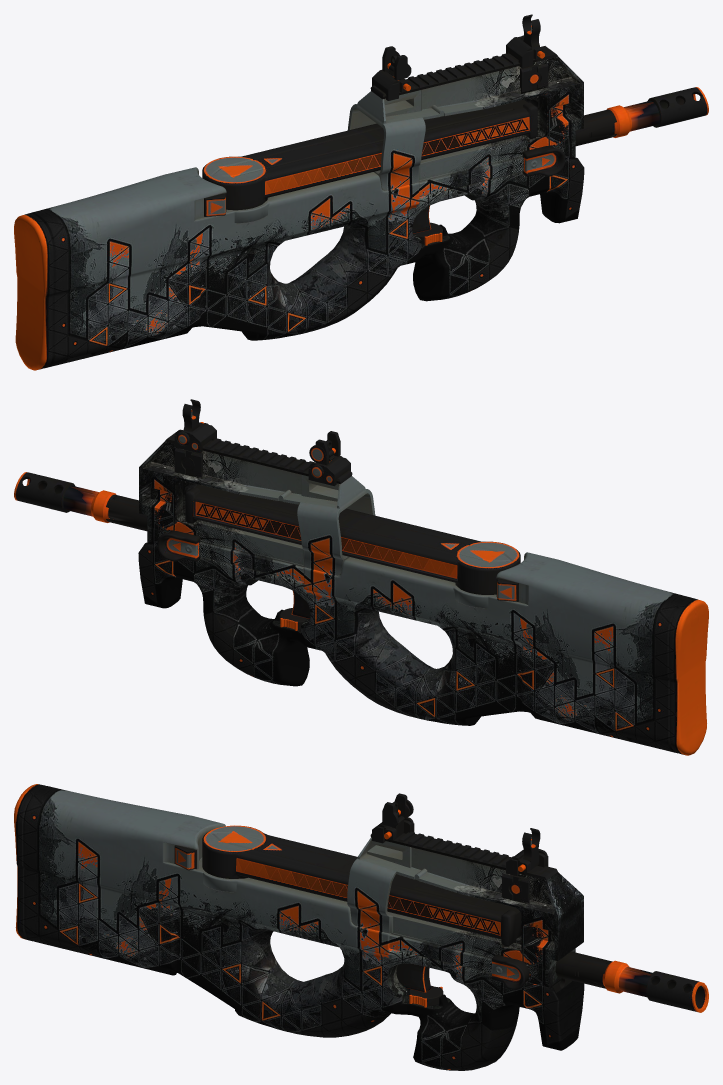
Rendered from w_assaultsmg_trigon.glb.
3 views of the same model, one above another, from view 1: azimuth 30°, elevation 25°; view 2: azimuth 150°, elevation 25°; view 3: azimuth 330°, elevation 25° (orthographic).
Visible parts, largest first — view 1: Gun_Root; view 2: Gun_Root; view 3: Gun_Root.
Part boxes in pixels (<box>): Gun_Root: <box>14,14,708,370</box>; Gun_Root: <box>14,399,708,755</box>; Gun_Root: <box>14,784,708,1070</box>.
Size of the model in its own units: 0.5898 by 0.2149 by 0.0635.
Materials: 1 (1 with a texture image).
